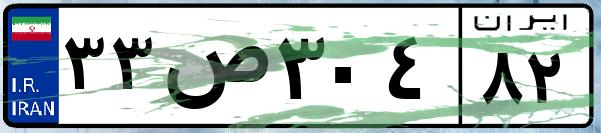0: (330, 28, 385, 110)
2: (525, 38, 570, 115)
3: (270, 28, 330, 110), (57, 26, 110, 100), (110, 28, 158, 98)
4: (385, 28, 445, 110)
8: (475, 38, 525, 113)
ص: (158, 20, 270, 120)
